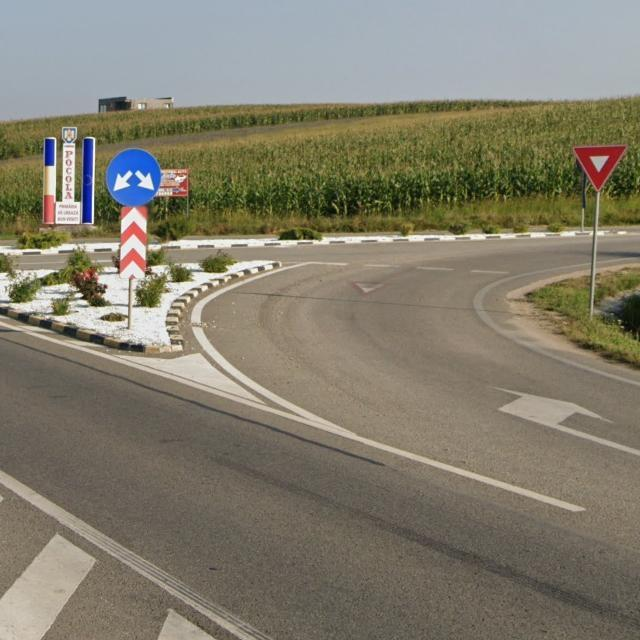prio_give_way: (573, 145, 628, 191)
